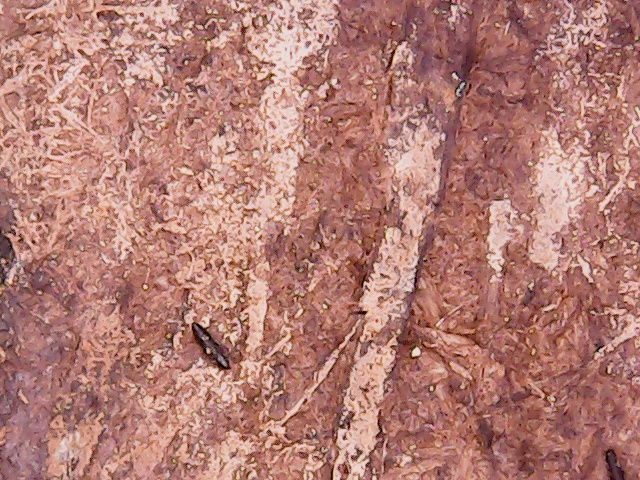full: (188, 320, 238, 376)
